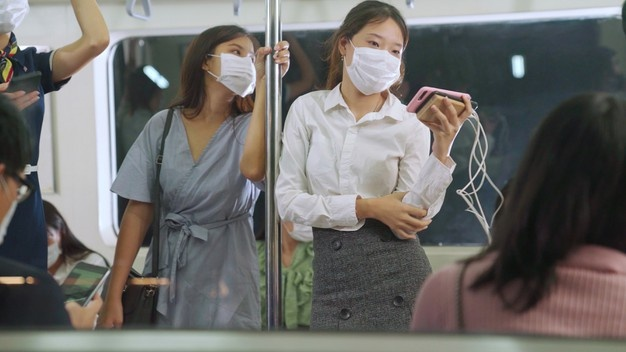with_mask: (347, 27, 402, 96), (218, 39, 258, 98)
